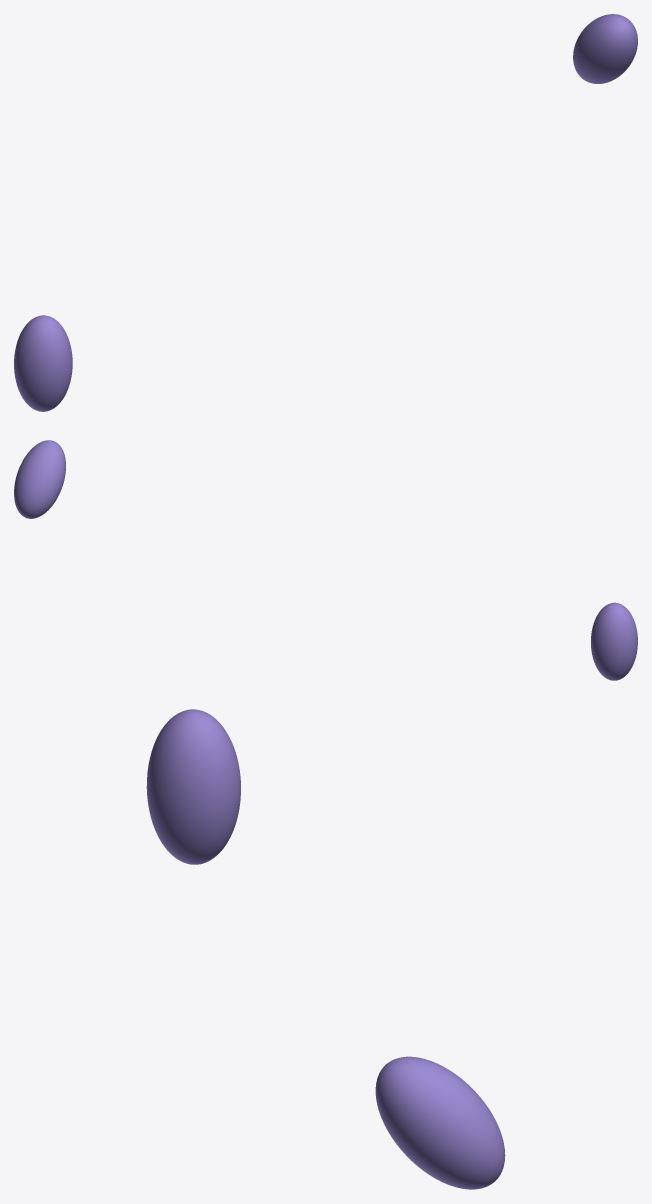
File: lisosoma.glb
The picture shows the model from 3 angles, top to bottom: view 1: azimuth 30°, elevation 25°; view 2: azimuth 150°, elevation 25°; view 3: azimuth 270°, elevation 25°; orthographic projection. The views are drawn at different scales.
Parts seen in each view (by area): view 1: Object_203; view 2: Object_203; view 3: Object_203.
Boxes of the visible parts, box(x1,y1,x2,y2) form: Object_203: box(14, 14, 637, 411); Object_203: box(14, 440, 637, 680); Object_203: box(146, 709, 505, 1189).
Size of the model in its own units: 27.27 by 7.13 by 7.64.
